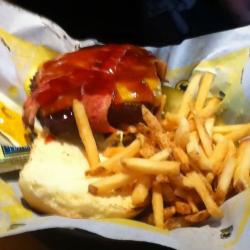burger: (29, 52, 168, 224)
fries: (133, 121, 227, 218)
